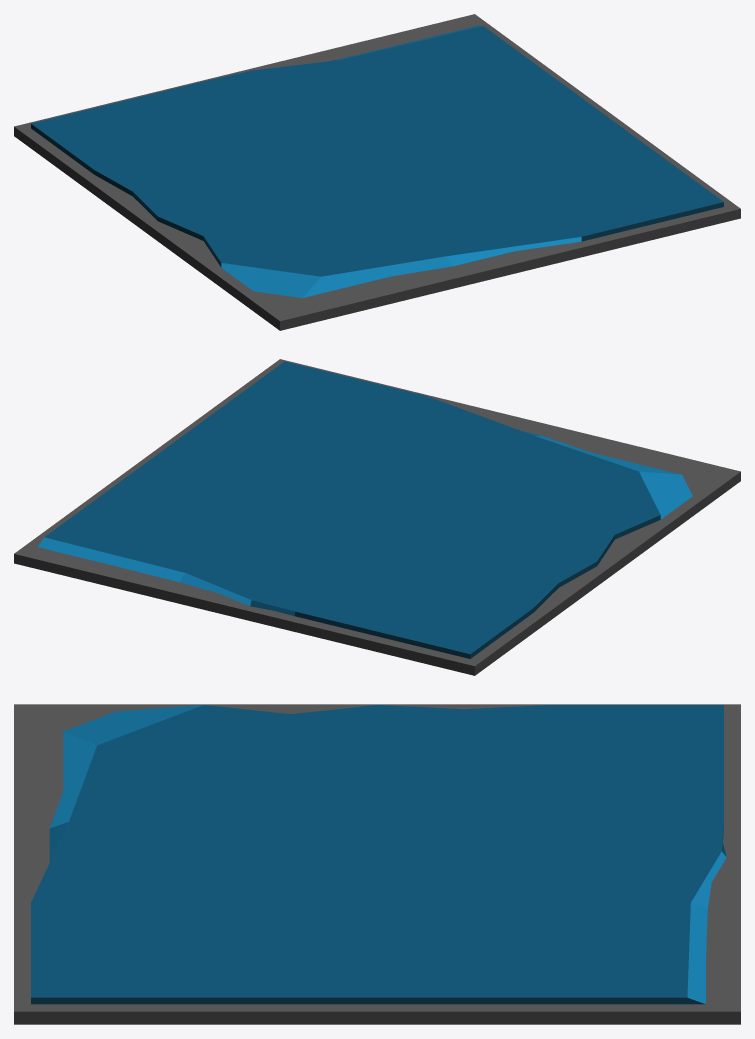
File: floor_type_02.fbx
The picture shows the model from 3 angles, top to bottom: view 1: azimuth 30°, elevation 25°; view 2: azimuth 150°, elevation 25°; view 3: azimuth 270°, elevation 25°; orthographic projection. The views are drawn at different scales.
Parts seen in each view (by area): view 1: floor_type_02; view 2: floor_type_02; view 3: floor_type_02.
Part boxes in pixels (box(x1,y1,x2,y2)): floor_type_02: box(14, 14, 740, 330); floor_type_02: box(14, 359, 740, 675); floor_type_02: box(14, 704, 740, 1024).
Size of the model in its own units: 200 by 6 by 200.
